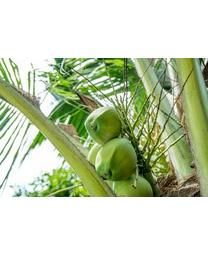coconut: (95, 139, 135, 183), (83, 104, 125, 145), (115, 173, 156, 199)
